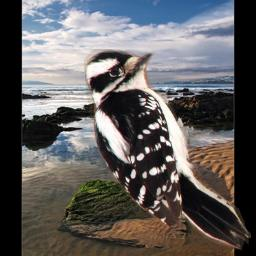Woodpecker: (84, 49, 251, 254)
